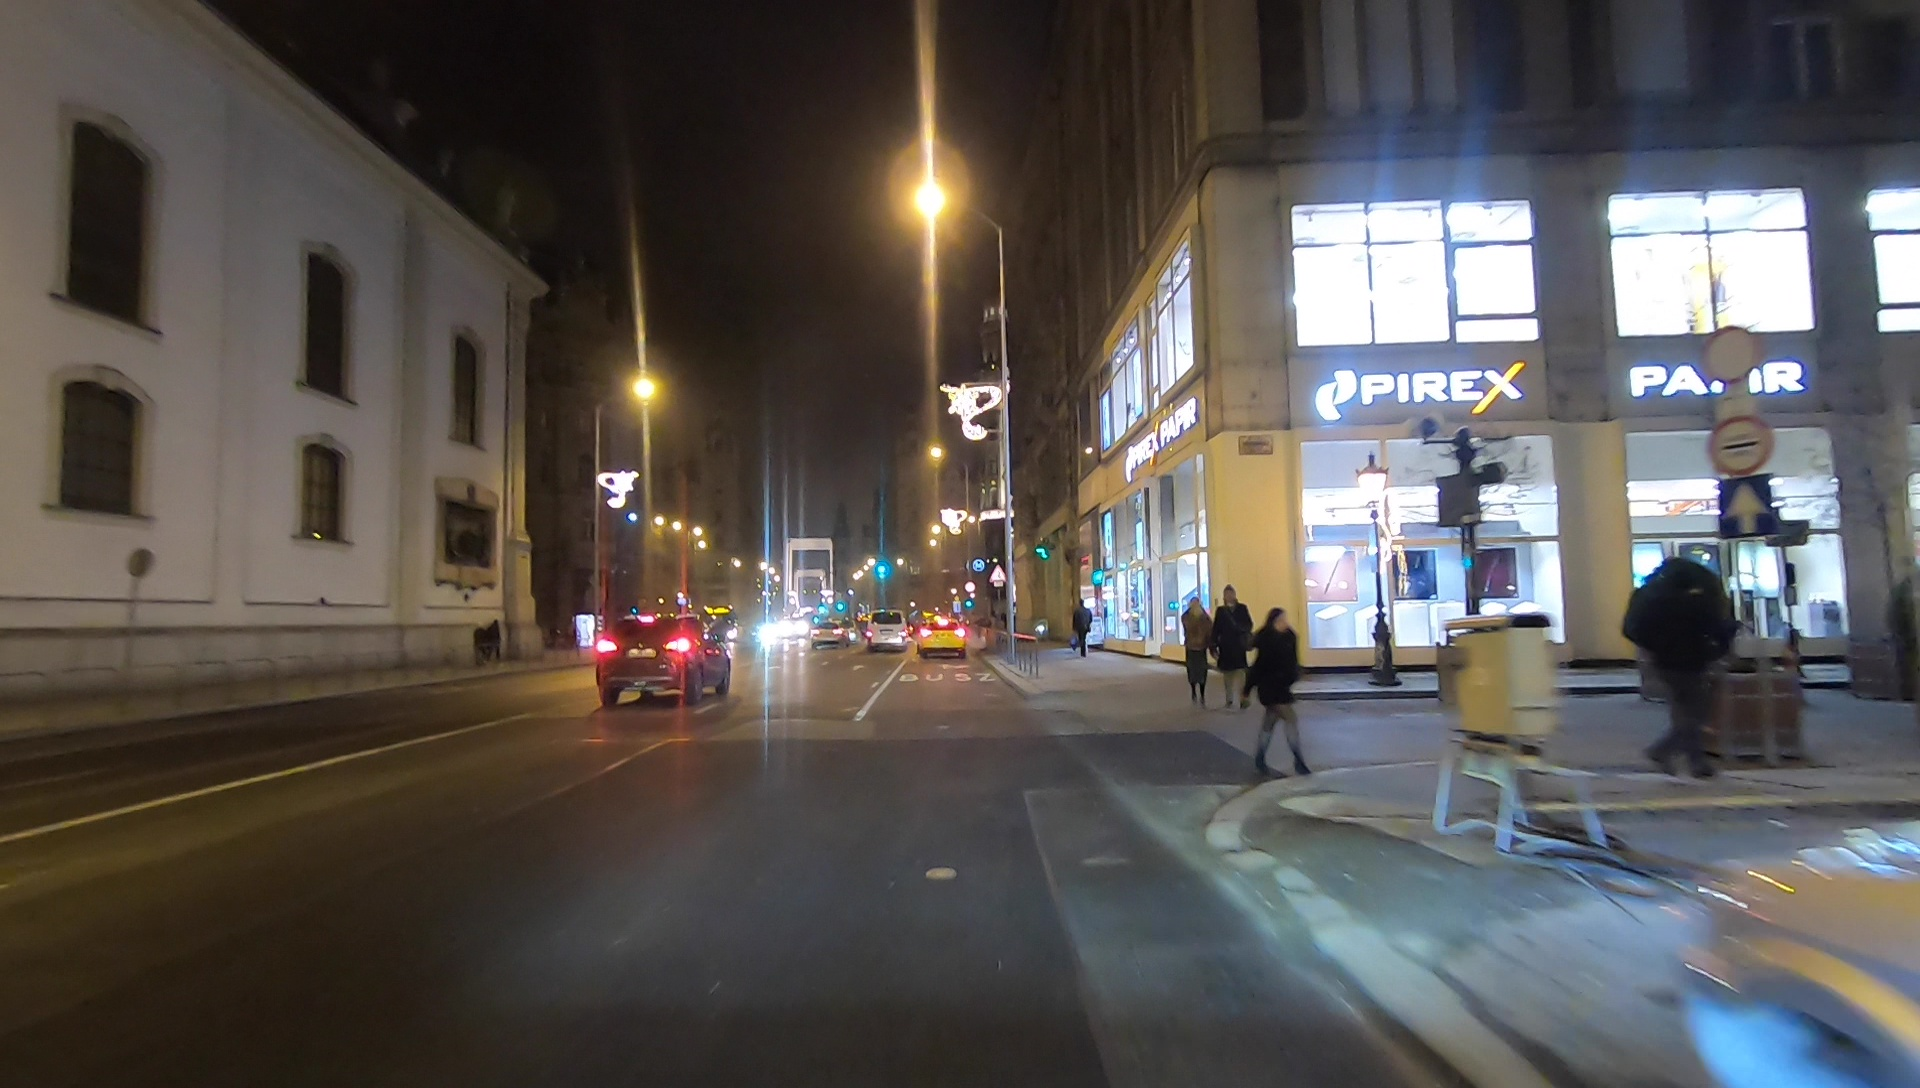person: (1632, 558, 1738, 784), (1249, 610, 1317, 776), (1215, 580, 1256, 710), (1180, 595, 1217, 702), (1071, 599, 1093, 658)
